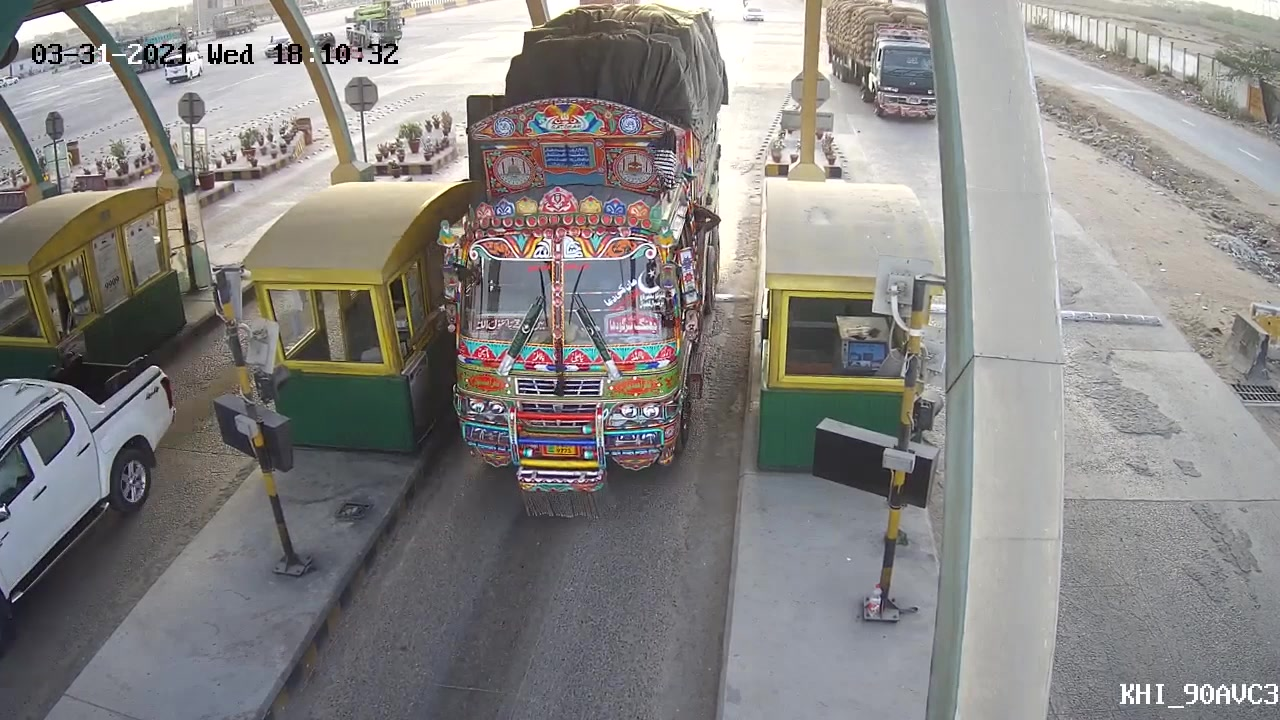F5: (425, 63, 737, 523)
